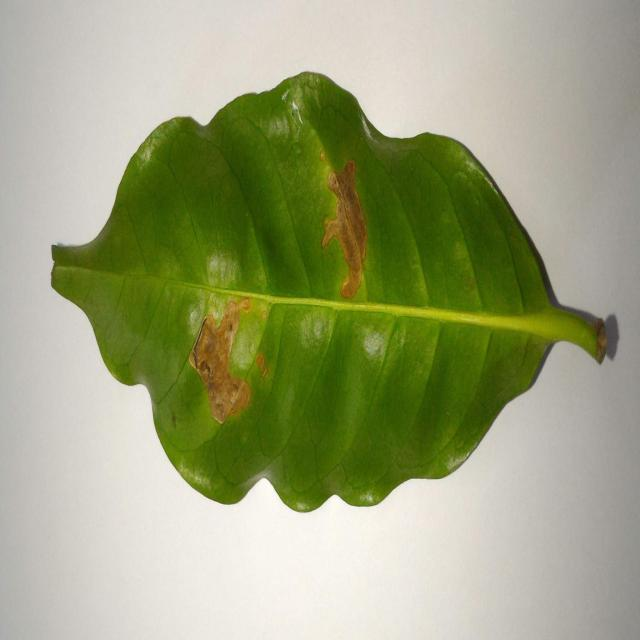miner: (188, 298, 251, 424), (322, 161, 368, 299), (255, 352, 268, 376)
